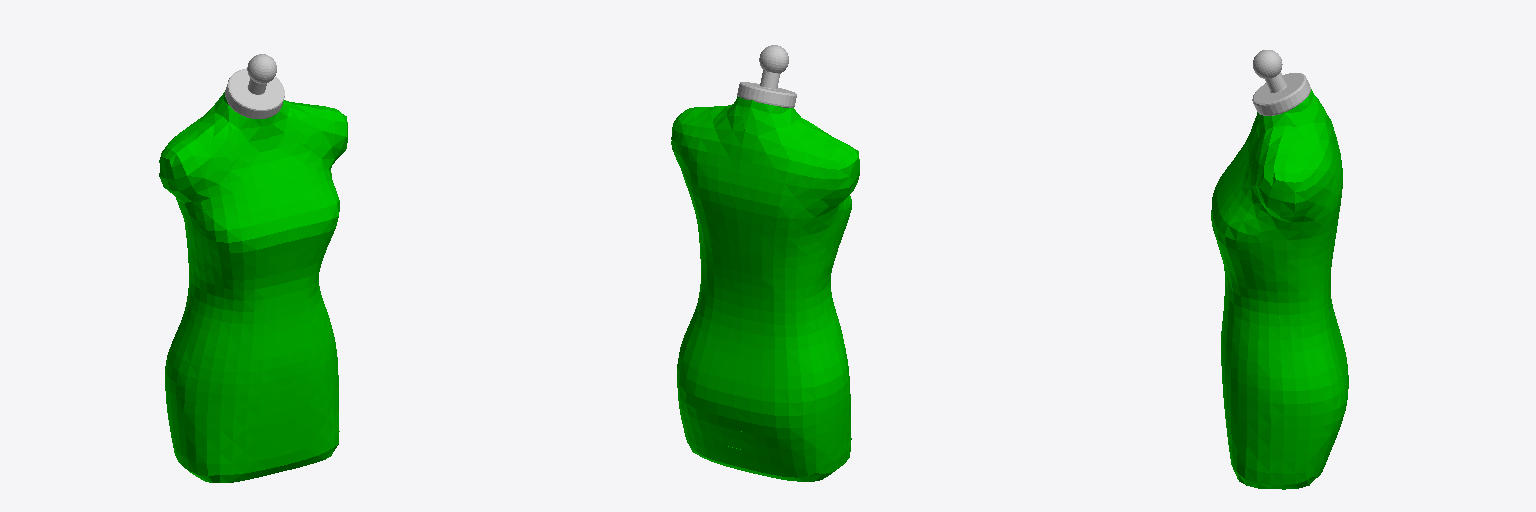
File: mannequin.obj
3 views of the same model, side by side, from view 1: azimuth 30°, elevation 25°; view 2: azimuth 150°, elevation 25°; view 3: azimuth 270°, elevation 25° (orthographic).
Visible parts, largest first — view 1: Cube_remesh_out, Cylinder.001; view 2: Cube_remesh_out, Cylinder.001; view 3: Cube_remesh_out, Cylinder.001.
Part boxes in pixels (bbox=[...]): Cube_remesh_out: bbox=[159, 90, 347, 482]; Cylinder.001: bbox=[225, 54, 284, 118]; Cube_remesh_out: bbox=[671, 96, 859, 481]; Cylinder.001: bbox=[737, 45, 796, 107]; Cube_remesh_out: bbox=[1211, 89, 1348, 489]; Cylinder.001: bbox=[1252, 50, 1310, 115].
Bounding box in the file's own units: 0.7161 × 1.57 × 0.4782.